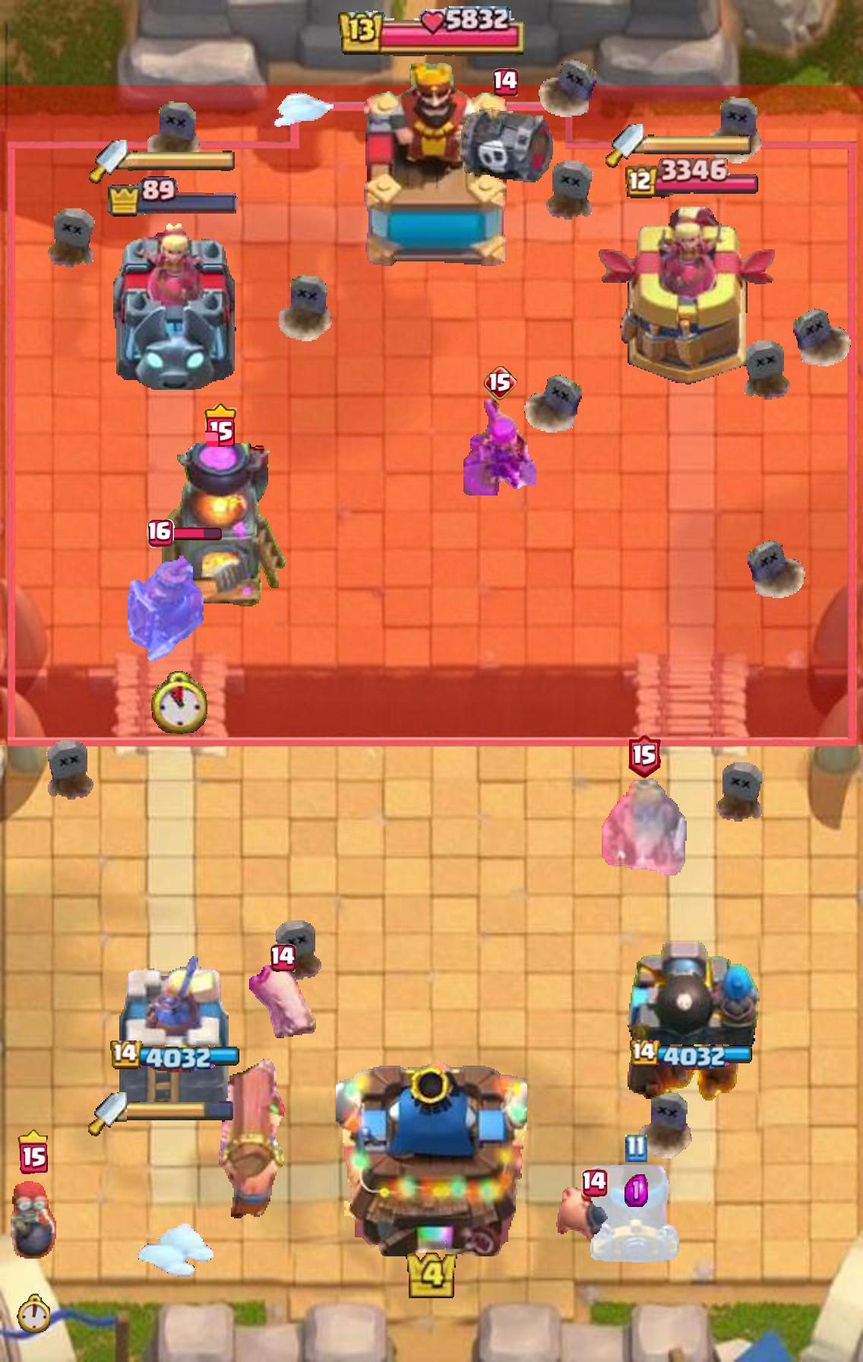elixir: (625, 1174, 648, 1207)
